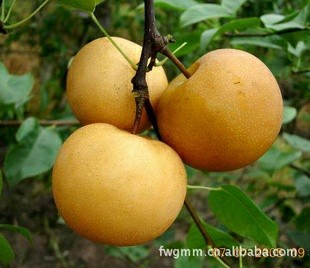pear: (51, 122, 186, 246), (153, 48, 282, 171), (67, 37, 167, 133)
